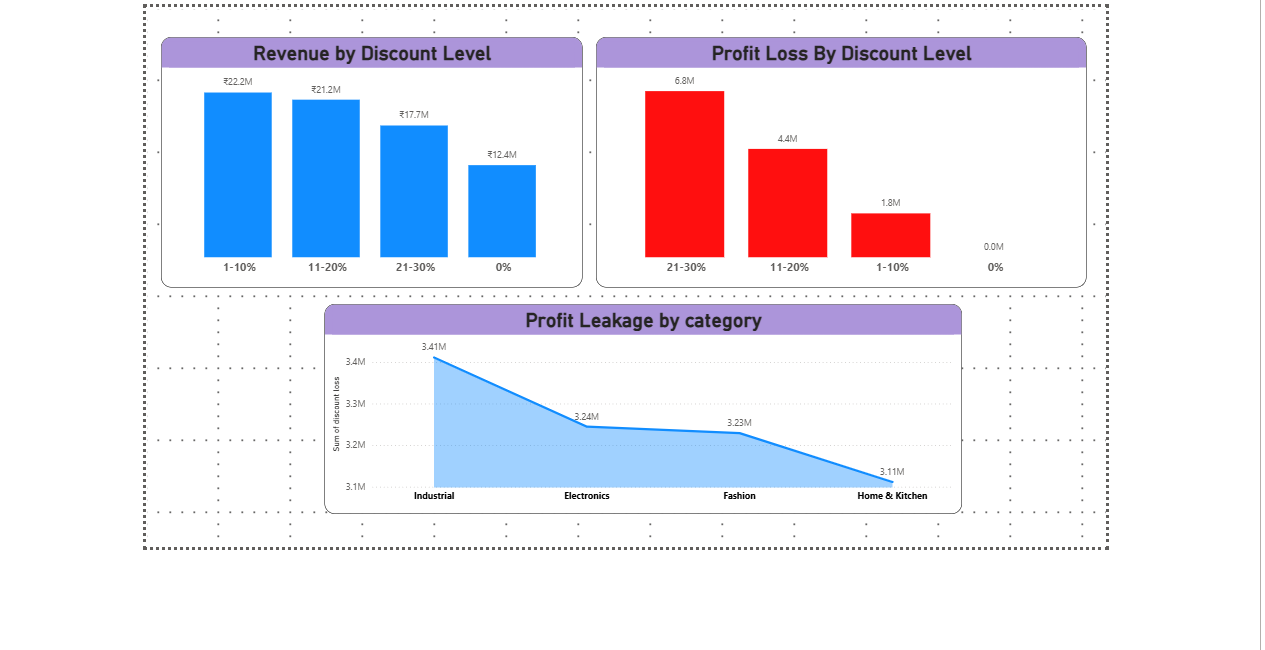

The dashboard page shown, as its layout file describes it:
{"tool":"powerbi","page":{"name":"Profit leakage","canvas":[1280,720],"ordinal":2},"visuals":[{"type":"columnChart","title":"Revenue by  Discount Level","fields":{"Y":["Sum(orders.revenue)"],"Category":["orders.discount bucket "]},"box":[20,40,562,334],"z":0},{"type":"columnChart","title":"Profit Loss By Discount Level","fields":{"Category":["orders.discount bucket "],"Y":["Sum(orders.discount loss)"]},"box":[600,40,654,334],"z":1000},{"type":"areaChart","title":"Profit Leakage by category","fields":{"Category":["orders.category"],"Y":["Sum(orders.discount loss)"]},"box":[238,396,850,280],"z":2000}]}

Visuals, with their boxes on the page's 1280x720 design canvas (x1, y1, x2, y2). These are canvas units, not pixel positions in the 1265x650 screenshot, which may show the page scaled, cropped or inside an application window:
"Revenue by  Discount Level" columnChart: BBox(20, 40, 582, 374)
"Profit Loss By Discount Level" columnChart: BBox(600, 40, 1254, 374)
"Profit Leakage by category" areaChart: BBox(238, 396, 1088, 676)
